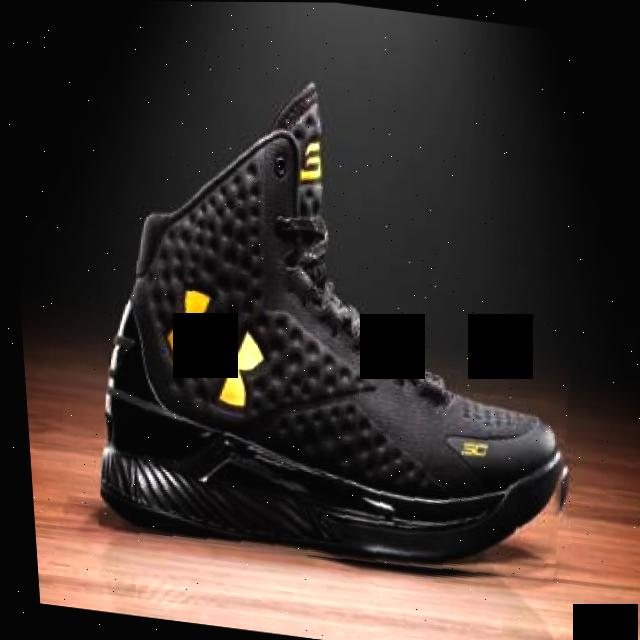shoe: (65, 56, 614, 594)
